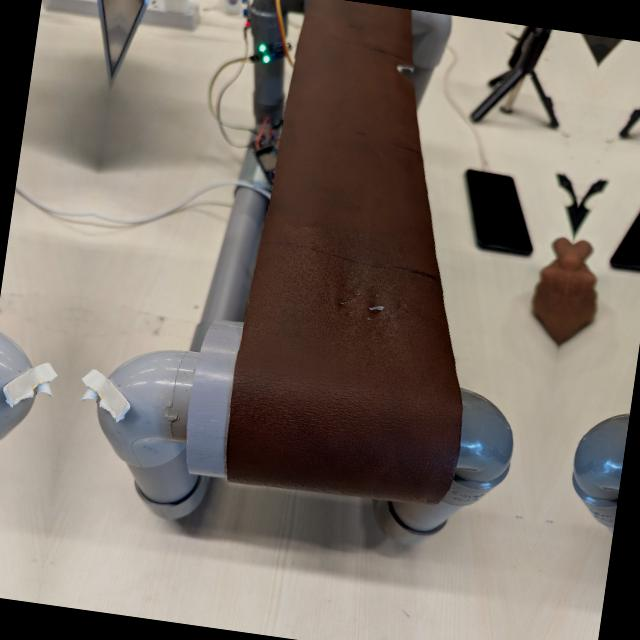belt_crack: (312, 275, 430, 348)
belt_tear: (384, 52, 422, 79)
